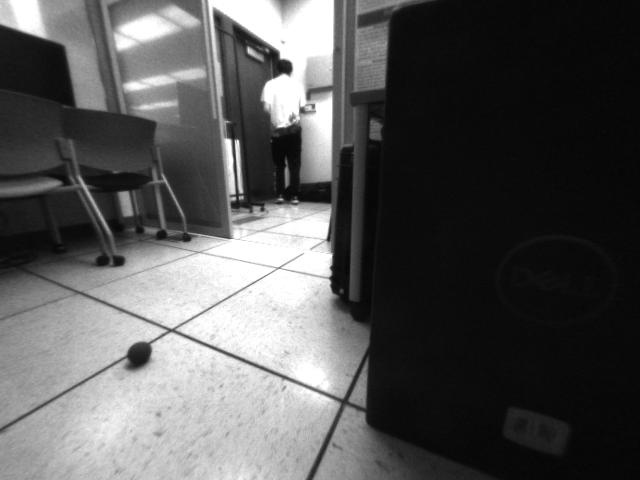dogtoy: (121, 336, 161, 375)
